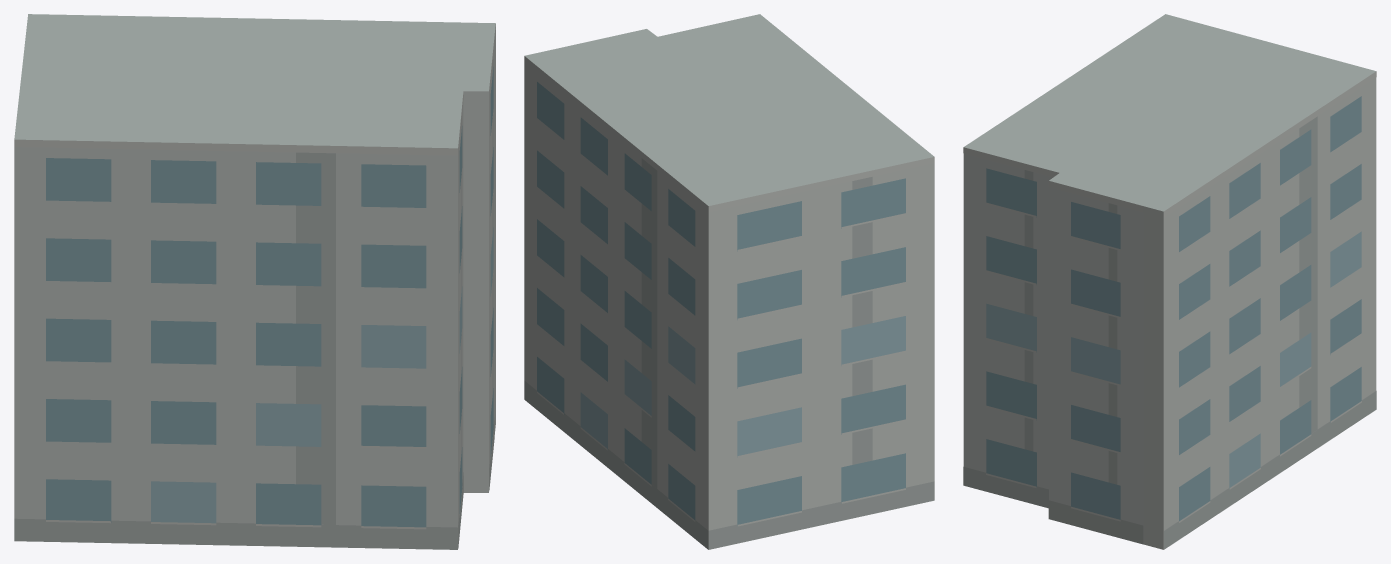
File: survey-upis-32885985.glb
3 views of the same model, side by side, from view 1: azimuth 30°, elevation 25°; view 2: azimuth 150°, elevation 25°; view 3: azimuth 270°, elevation 25° (orthographic). The views are drawn at different scales.
Parts seen in each view (by area): view 1: survey-upis-32885985.tmp; view 2: survey-upis-32885985.tmp; view 3: survey-upis-32885985.tmp.
Part boxes in pixels (box(x1,y1,x2,y2)): survey-upis-32885985.tmp: box(14, 14, 495, 549); survey-upis-32885985.tmp: box(524, 14, 934, 549); survey-upis-32885985.tmp: box(963, 14, 1376, 549).
Size of the model in its own units: 16.47 by 13.15 by 14.56.
